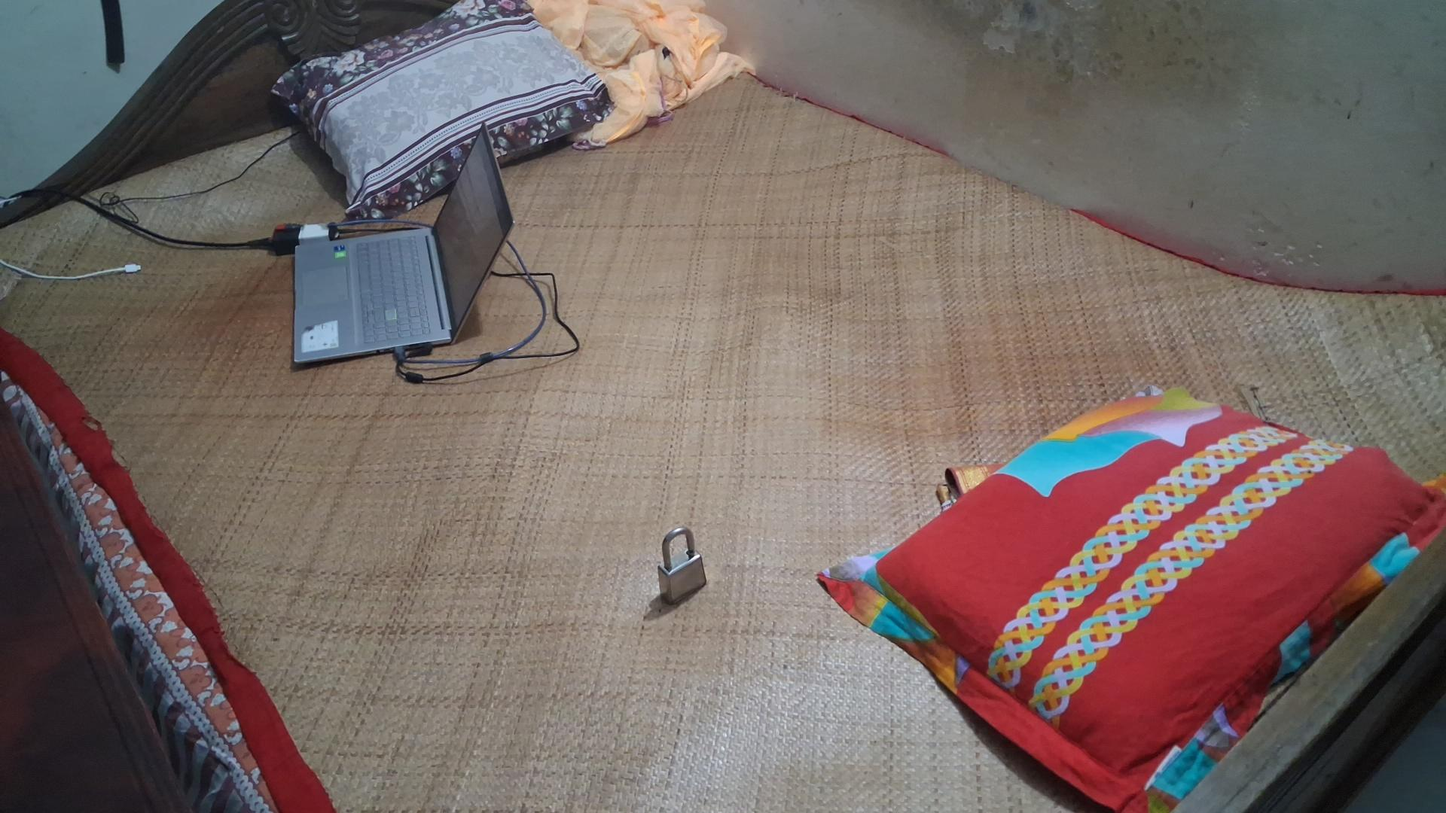Laptop: (291, 129, 515, 369)
Lock: (658, 526, 706, 605)
Pillow: (818, 390, 1446, 813), (270, 3, 612, 223)
